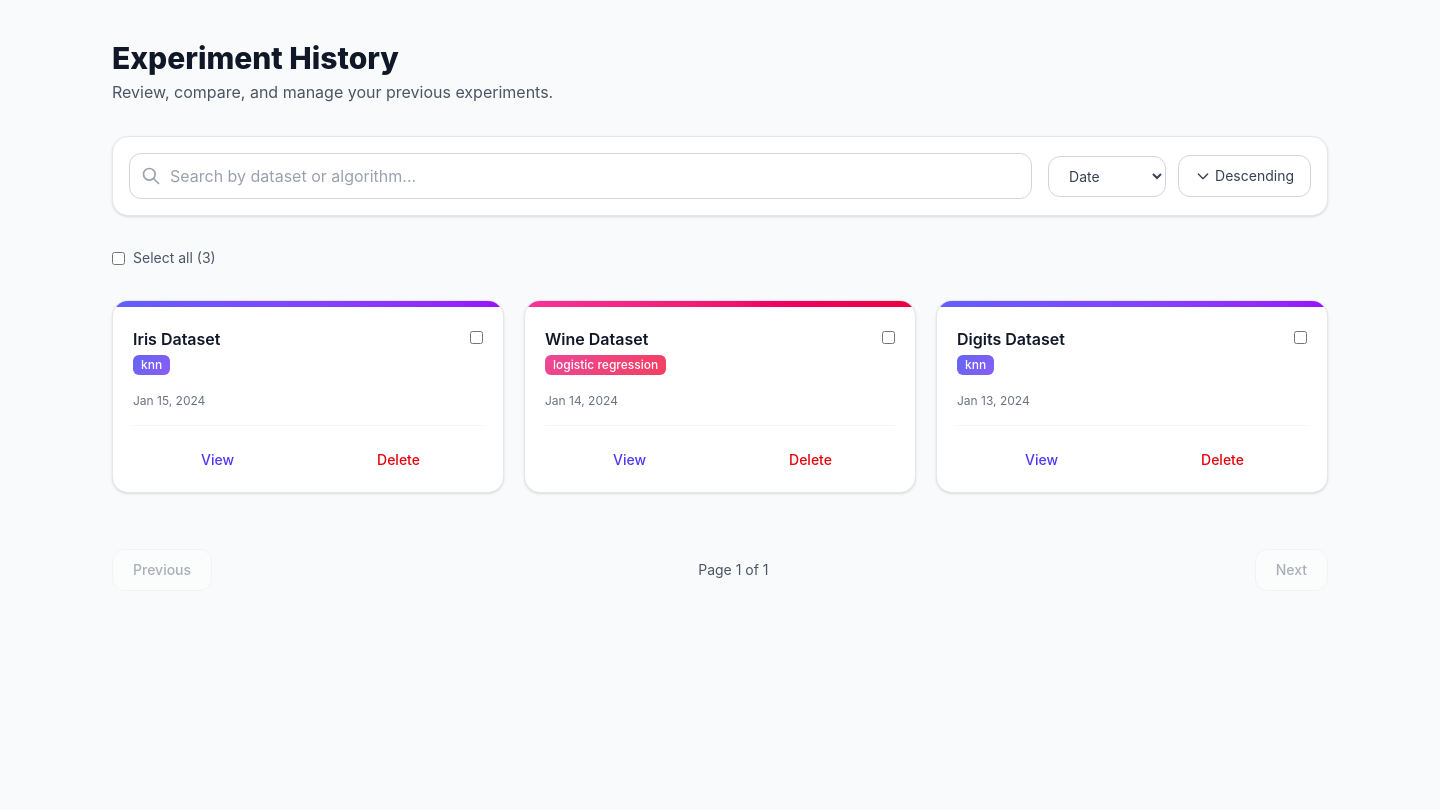
HistoryList › Selection › allows selecting all experiments
Check: the heading "Iris Dataset" is shown, box [133, 329, 220, 349]
Click the checkbox labelled "Select all (3)" at (118,258), box [112, 252, 125, 264]
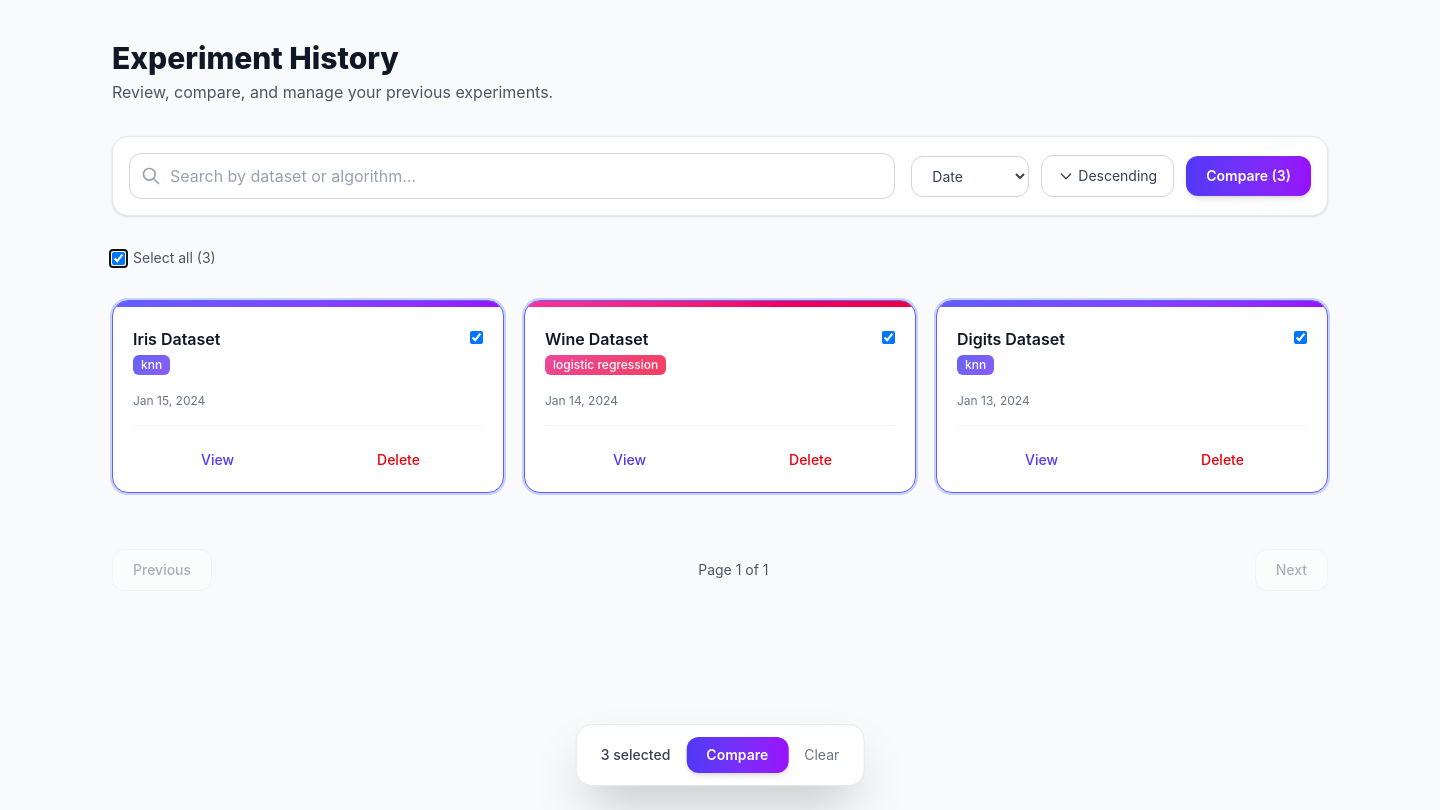
Check: the checkbox labelled "Select all (3)" is checked, box [112, 252, 125, 264]
Check: the checkbox in the row of "Iris Dataset" is checked, box [470, 331, 483, 344]
Check: the checkbox in the row of "Wine Dataset" is checked, box [882, 331, 895, 344]
